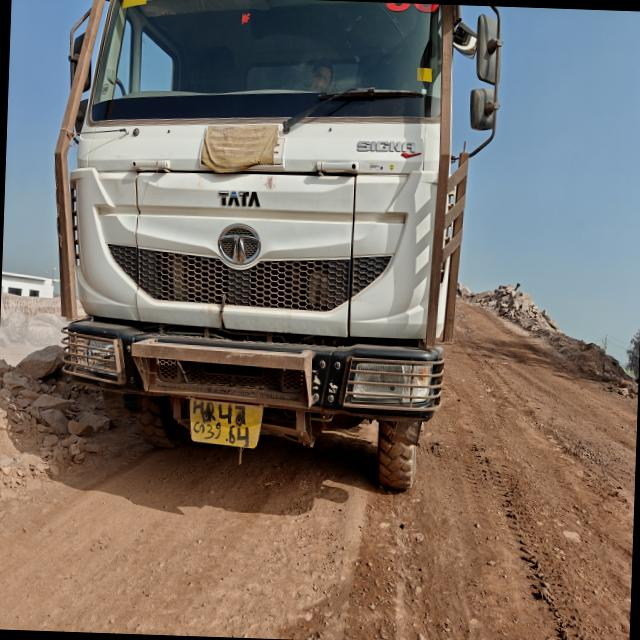license_plate: (190, 399, 262, 448)
